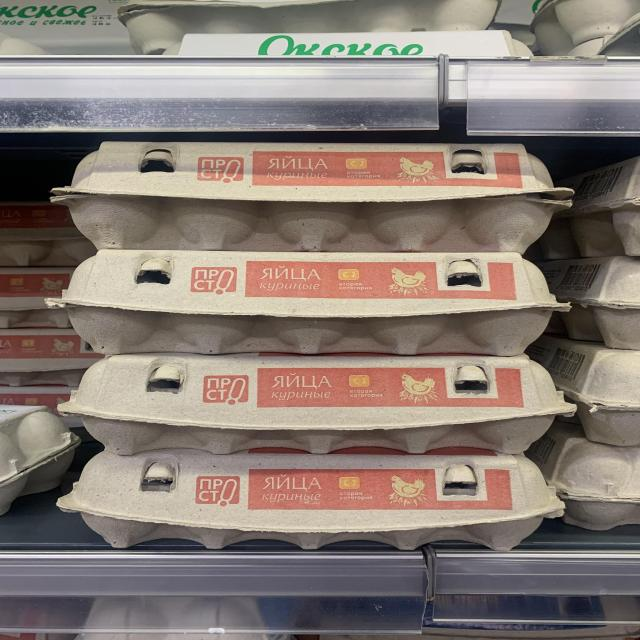organic waste: (46, 138, 574, 255), (64, 350, 576, 455), (53, 254, 568, 355), (63, 447, 560, 551)
